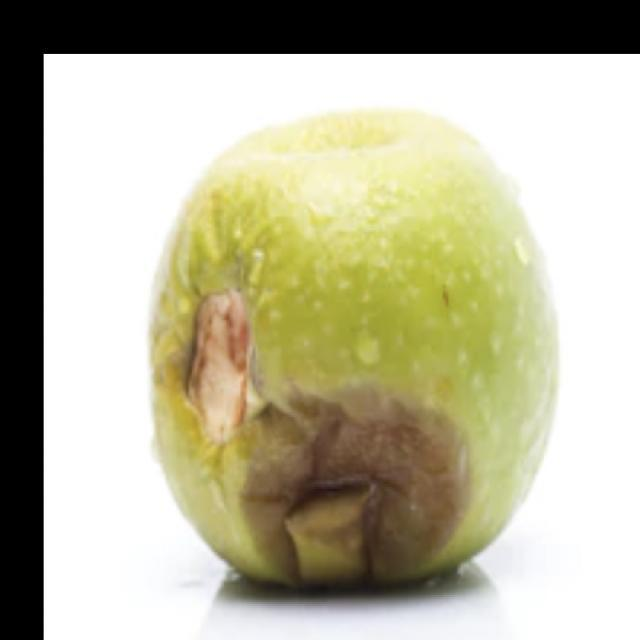Rotten: (181, 116, 561, 640)
